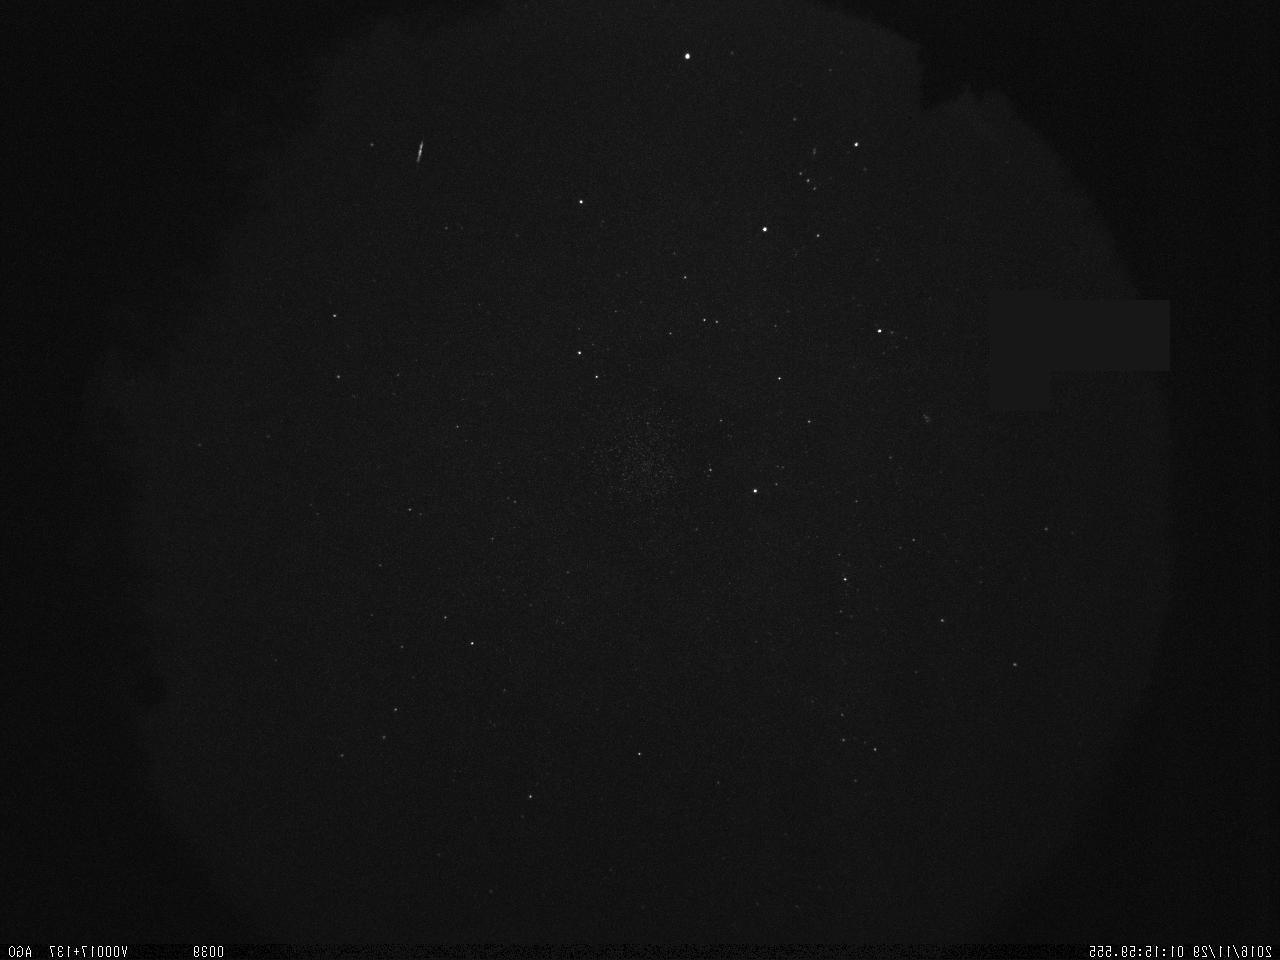meteor: (399, 125, 441, 181)
